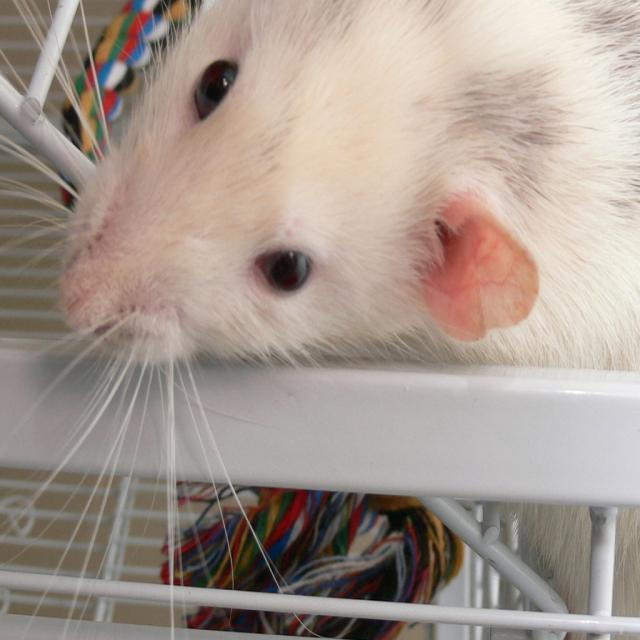rat: (0, 4, 640, 498)
